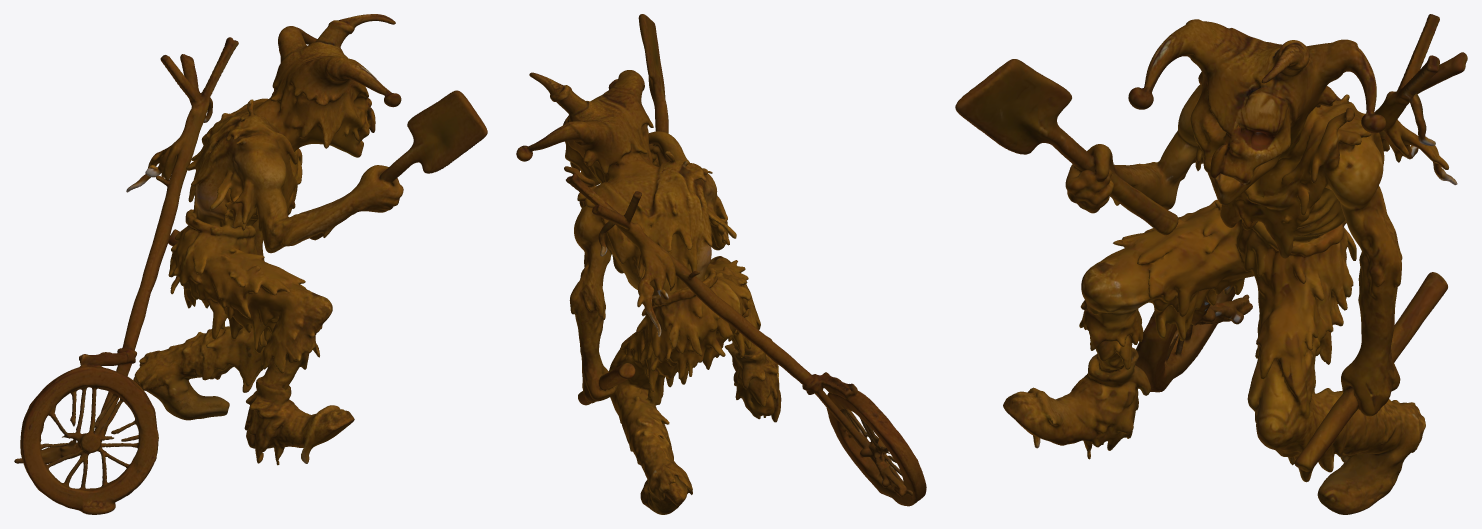
3 views of the same model, side by side, from view 1: azimuth 30°, elevation 25°; view 2: azimuth 150°, elevation 25°; view 3: azimuth 270°, elevation 25° (orthographic). The views are drawn at different scales.
Parts seen in each view (by area): view 1: tripo_node_64d352d9-9e68-4e6e-b1f7-ce3f02970201; view 2: tripo_node_64d352d9-9e68-4e6e-b1f7-ce3f02970201; view 3: tripo_node_64d352d9-9e68-4e6e-b1f7-ce3f02970201.
Boxes of the visible parts, <box> form: tripo_node_64d352d9-9e68-4e6e-b1f7-ce3f02970201: <box>14,14,487,514</box>; tripo_node_64d352d9-9e68-4e6e-b1f7-ce3f02970201: <box>516,14,926,514</box>; tripo_node_64d352d9-9e68-4e6e-b1f7-ce3f02970201: <box>955,14,1467,514</box>.
Bounding box in the file's own units: 1 × 0.9503 × 0.8098.
1 material, 1 textured.
